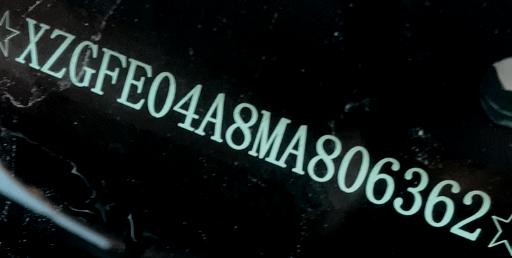letter: (248, 110, 290, 162), (450, 190, 490, 237), (392, 167, 430, 214), (277, 123, 311, 173), (306, 133, 342, 180), (39, 29, 75, 76), (119, 59, 153, 108), (15, 18, 49, 67), (90, 48, 126, 93), (425, 179, 459, 226), (336, 145, 370, 191), (366, 156, 400, 201), (226, 102, 258, 148), (174, 80, 204, 129), (196, 92, 226, 140), (69, 41, 99, 86), (147, 71, 175, 115)
